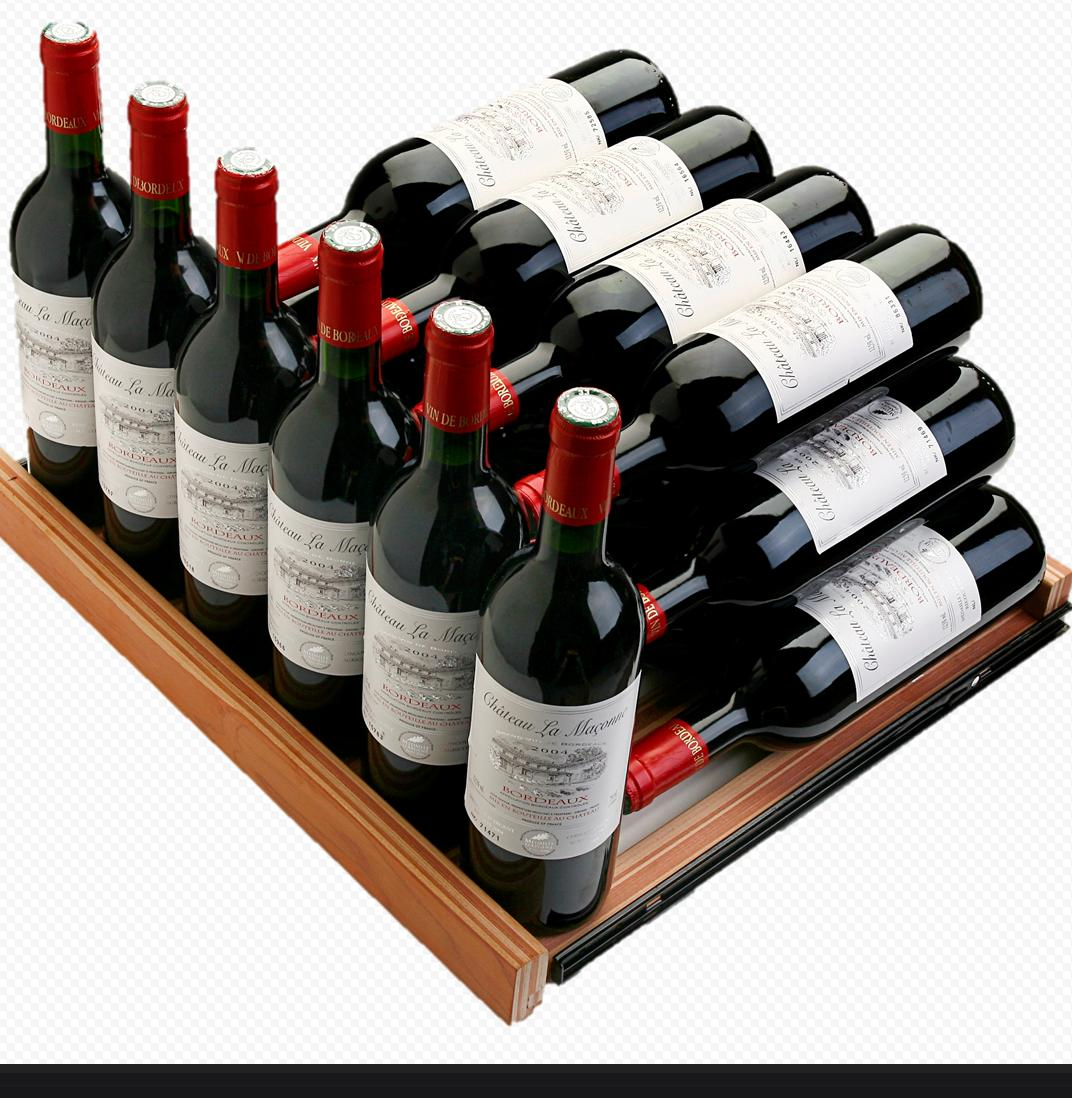wine bottle: (519, 222, 984, 535), (626, 485, 1047, 815), (633, 354, 1016, 647), (457, 386, 646, 936), (489, 166, 877, 433), (383, 104, 776, 364), (281, 48, 684, 299), (360, 298, 530, 851), (267, 219, 422, 763), (172, 146, 320, 677), (92, 81, 218, 599), (10, 19, 135, 528)
wine label: (697, 257, 916, 424), (465, 654, 640, 861), (796, 523, 982, 699), (757, 391, 949, 555), (596, 197, 807, 343), (507, 133, 704, 276), (410, 75, 608, 212), (362, 563, 478, 767), (268, 482, 371, 677), (175, 412, 270, 595), (95, 340, 177, 520), (13, 272, 95, 447)
